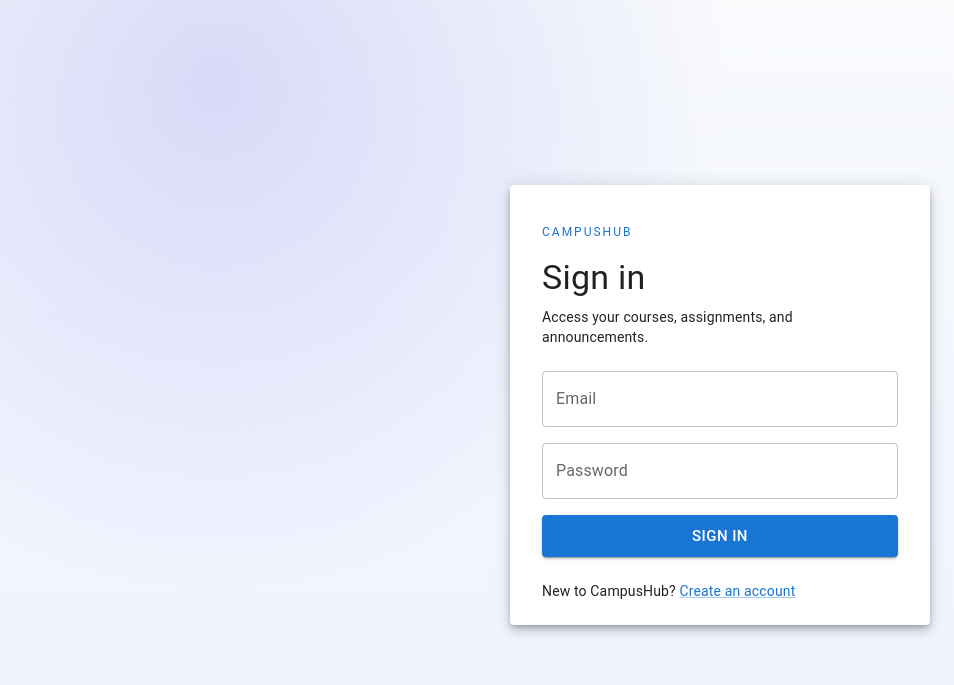
Scenario: LoginPage › displays server errors returned by login
Type "priya.patel@campushub.local" into the field labelled "Email". click: (720, 399)
box: [542,371,898,427]
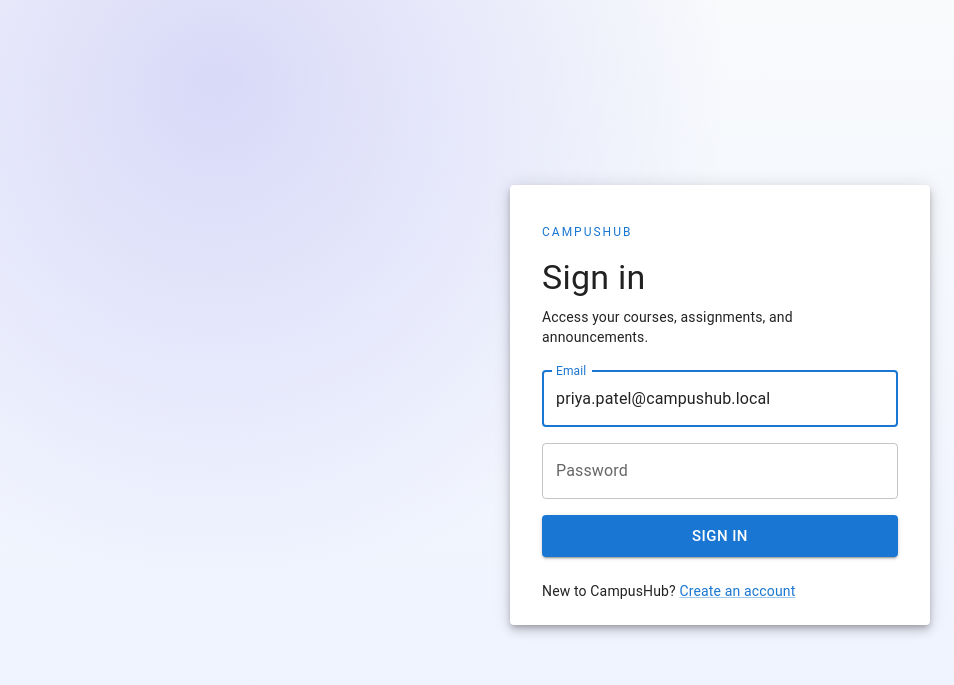
Type "wrong" into the password field labelled "Password". click: (720, 471)
box: [542,443,898,499]
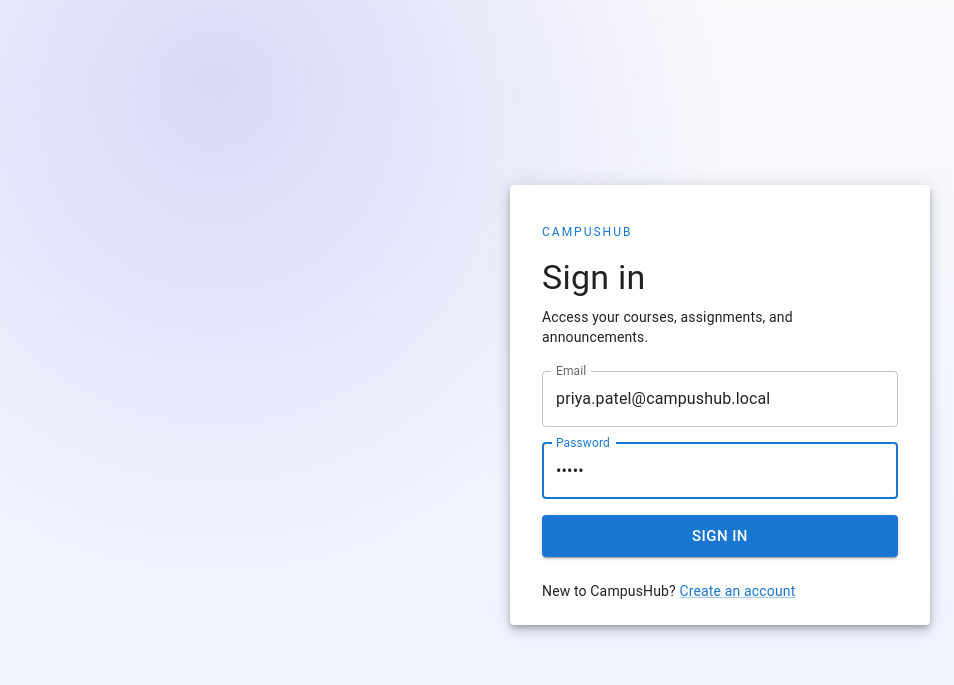
Click the button "Sign in". click: (720, 536)
box: [542,515,898,557]
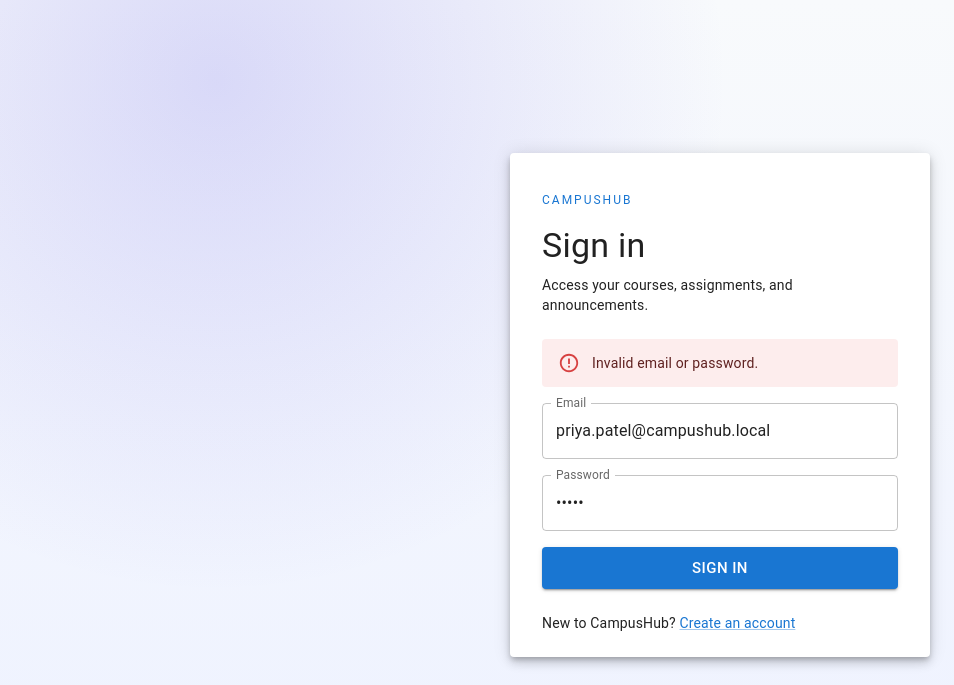
Check: the text "Invalid email or password." is shown, box [592,355,758,371]
